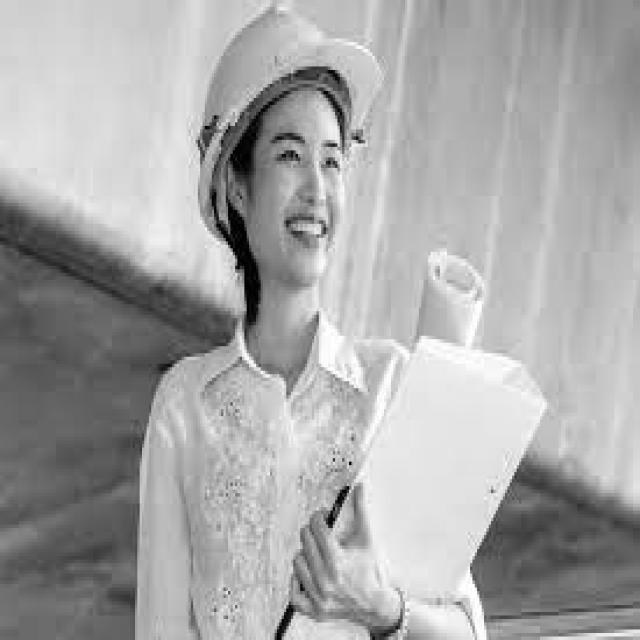safety_helmet: (198, 8, 386, 244)
